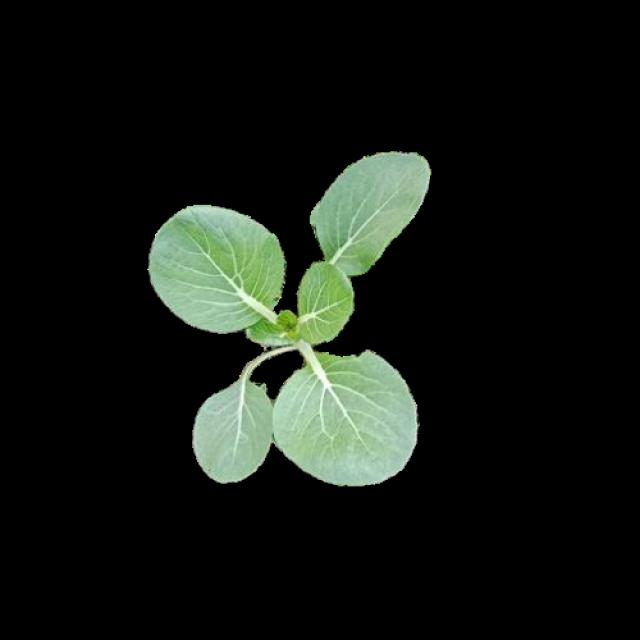healthy: (146, 147, 429, 483)
not-mature: (148, 150, 432, 485)
